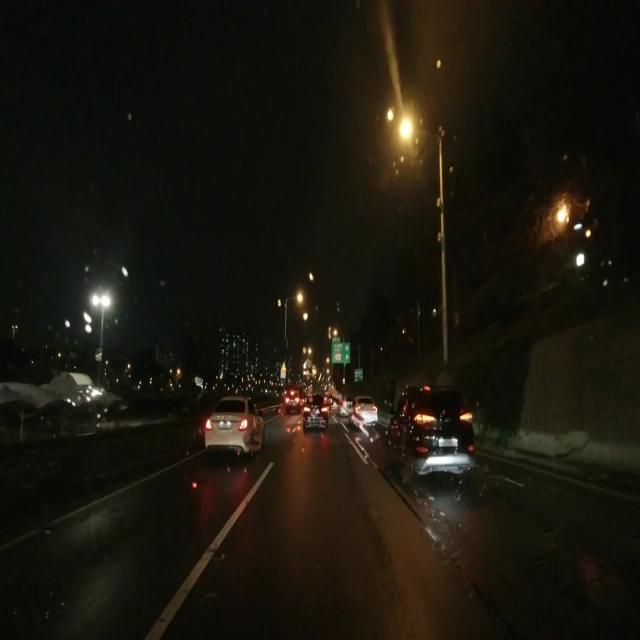Car: (382, 387, 470, 480), (202, 393, 261, 456), (299, 393, 324, 430)
